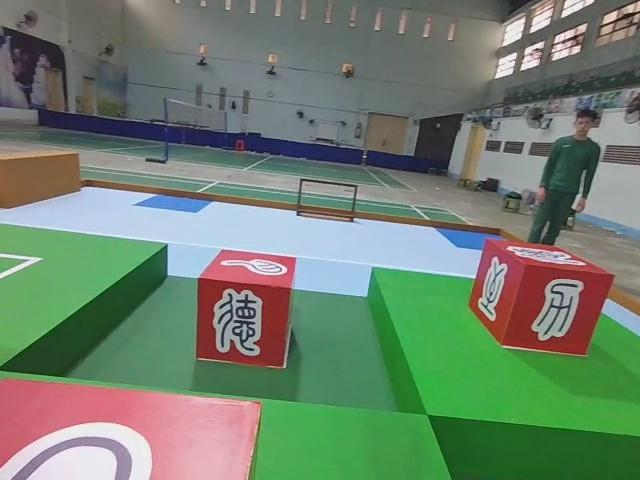R2 Fake: (466, 234, 618, 357), (193, 247, 298, 370)
